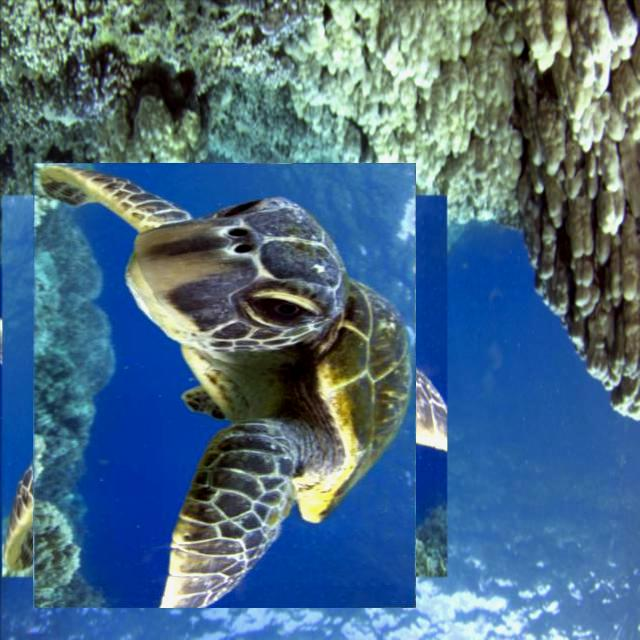Sea turtle: (17, 179, 432, 593)
